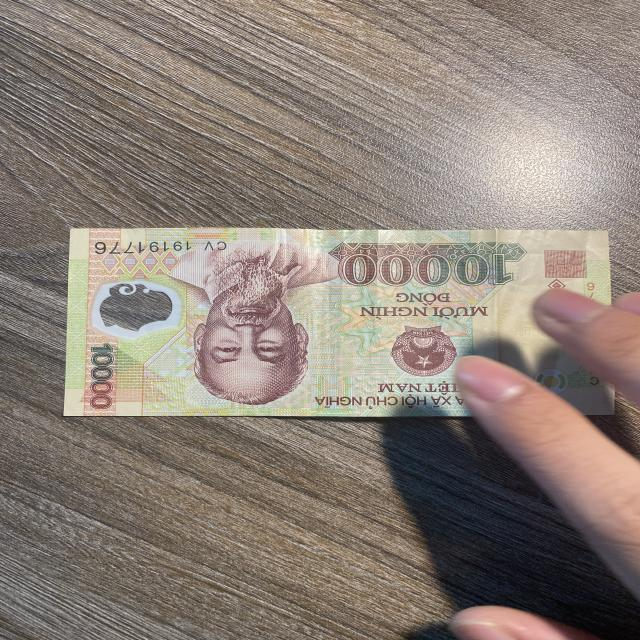10 000 VND: (49, 207, 619, 438)
